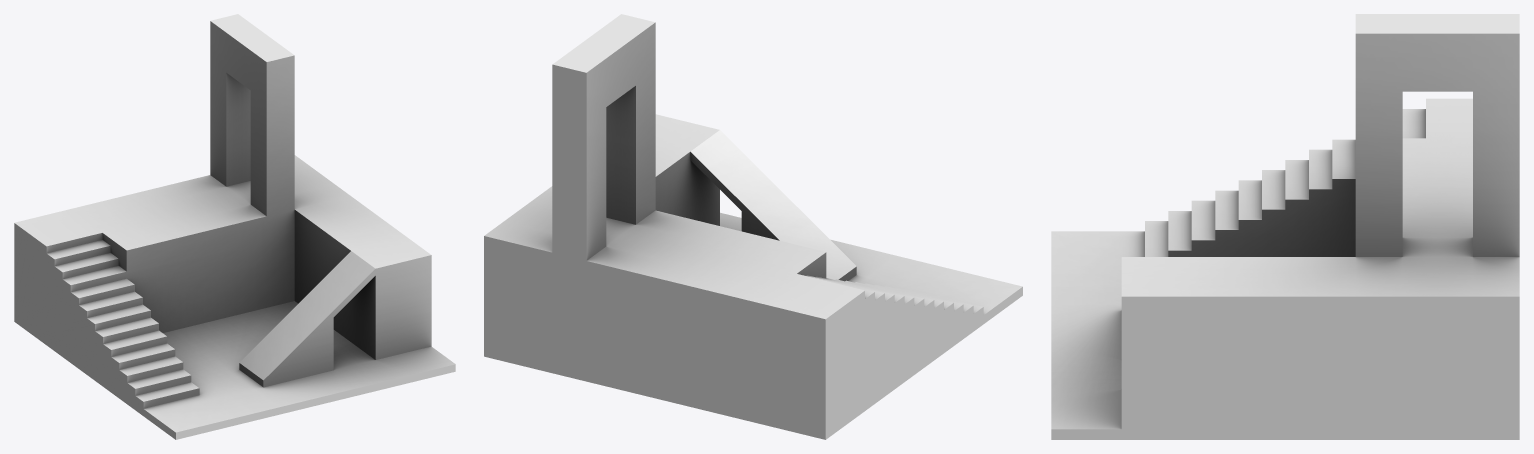
Rendered from NavMeshWorld.FBX.
3 renders of one model, left to right at view 1: azimuth 30°, elevation 25°; view 2: azimuth 150°, elevation 25°; view 3: azimuth 270°, elevation 25°, orthographic. The views are drawn at different scales.
Visible parts, largest first — view 1: NavMeshWorld; view 2: NavMeshWorld; view 3: NavMeshWorld.
Part boxes in pixels (left/top/right/bottom): NavMeshWorld: left=14, top=14, right=455, bottom=439; NavMeshWorld: left=484, top=14, right=1022, bottom=439; NavMeshWorld: left=1051, top=14, right=1519, bottom=439.
Size of the model in its own units: 394 by 340 by 394.
Materials: 1 (1 with a texture image).
